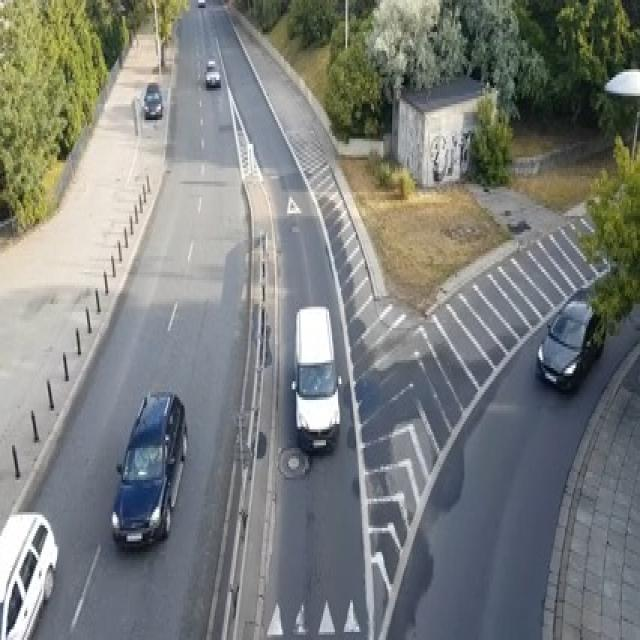car: (110, 390, 186, 550), (0, 512, 59, 637), (290, 304, 339, 453), (535, 296, 604, 392), (143, 83, 162, 117), (204, 59, 221, 88), (197, 0, 206, 8)
